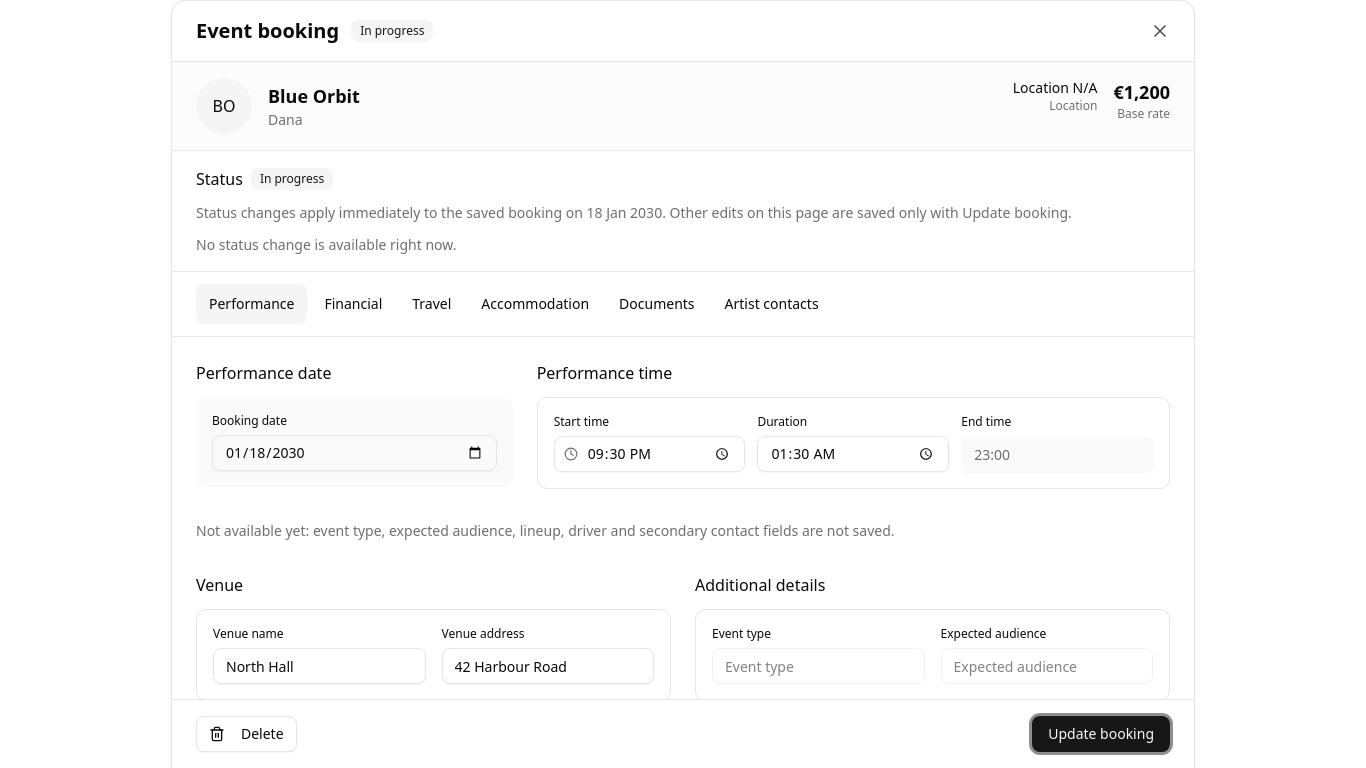
Test: releases the pending guard after a returned failure without moving focus and permits retry
Later steps or results of the test are not shown.
Click the button "Update booking": (1101, 734) [1032,716,1170,752]
(page scrolled)
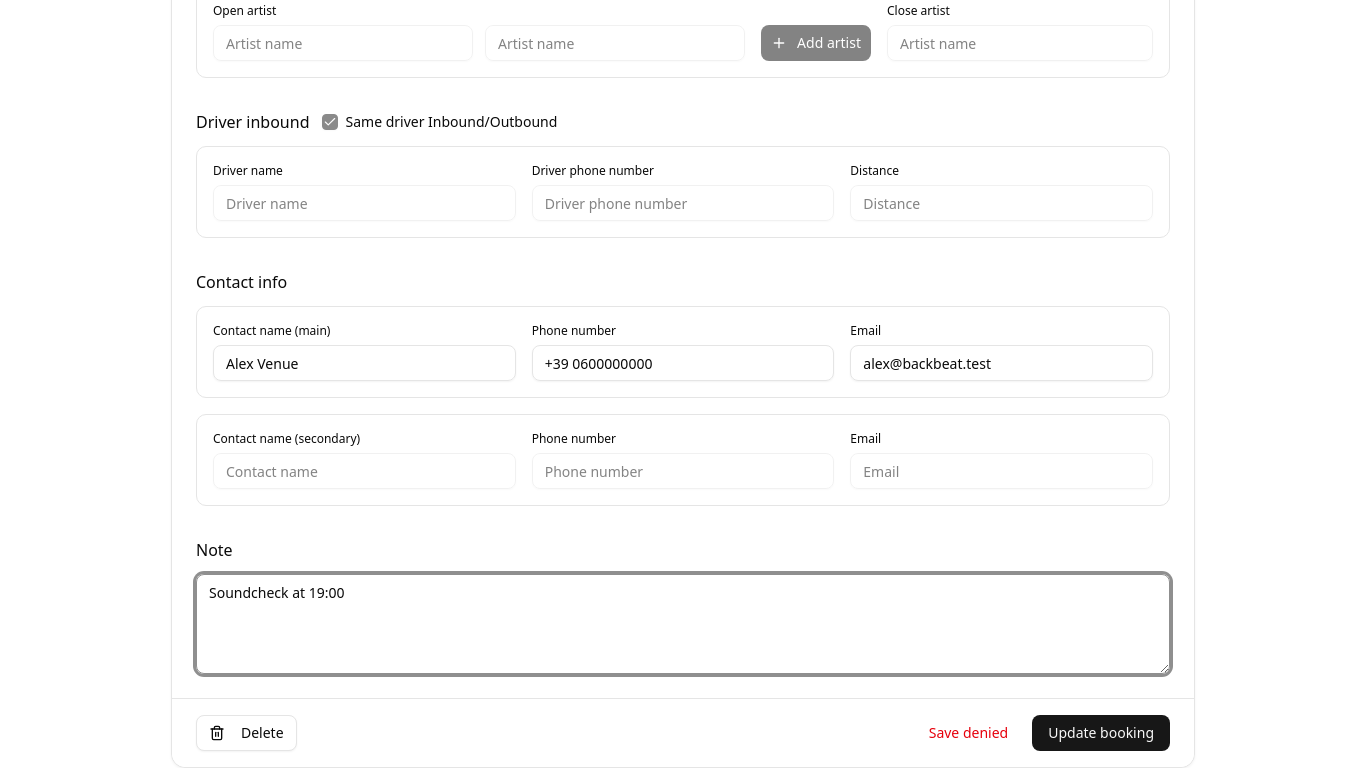
Expected: the message reads "Save denied", [929,723,1008,742]
